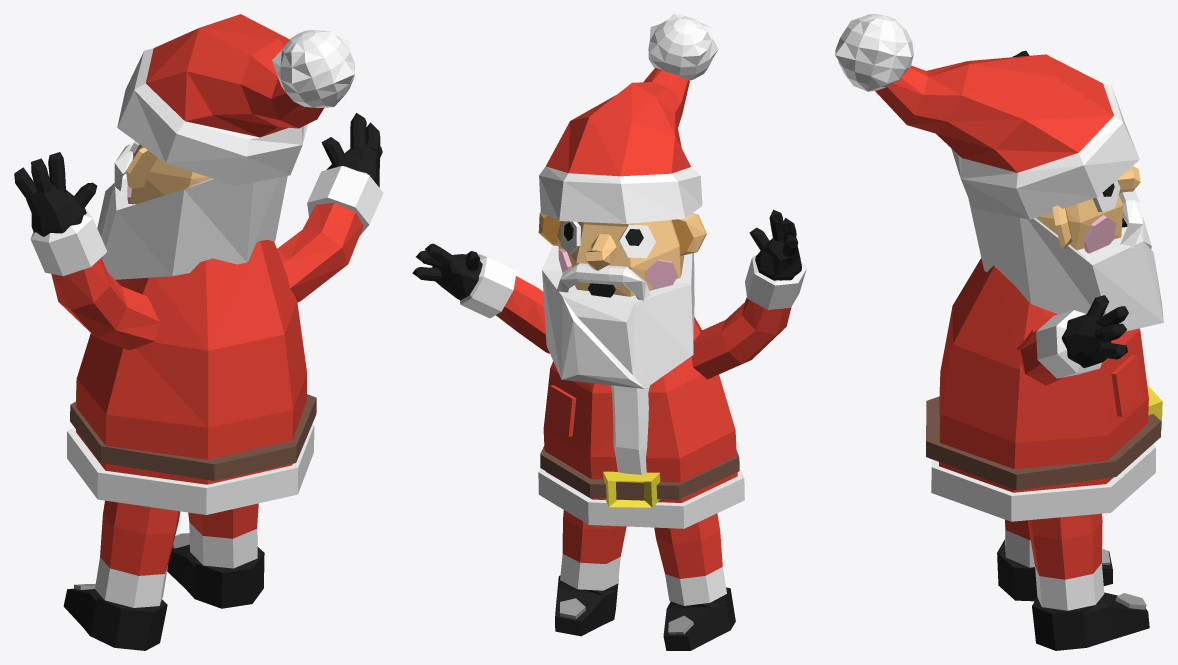
Rendered from Surprised Santa.glb.
The picture shows the model from 3 angles, left to right: view 1: azimuth 30°, elevation 25°; view 2: azimuth 150°, elevation 25°; view 3: azimuth 270°, elevation 25°; orthographic projection. The views are drawn at different scales.
Visible parts, largest first — view 1: group567412692, group806251968, group369021551, group1013935021, group27873801, group567754470, group592253174, group862190925, group1069797574, group1253634248, group913022759, group42980979 (+2 smaller); view 2: group806251968, group567412692, group369021551, group1013935021, group27873801, group567754470, group592253174, group42980979, group1069797574, group1102469100, group1646512128, group862190925 (+9 smaller); view 3: group806251968, group567412692, group369021551, group567754470, group42980979, group27873801, group862190925, group1069797574, group913022759, group1253634248, group1102469100, group776075749 (+4 smaller).
Boxes of the visible parts, x1,y1,x2,y2 form: group567412692: [76, 240, 306, 484]; group806251968: [117, 14, 323, 185]; group369021551: [97, 176, 287, 279]; group1013935021: [14, 152, 159, 350]; group27873801: [277, 113, 383, 302]; group567754470: [67, 424, 314, 514]; group592253174: [95, 500, 180, 607]; group862190925: [70, 394, 316, 480]; group1069797574: [272, 30, 354, 107]; group1253634248: [63, 588, 167, 650]; group913022759: [167, 544, 264, 608]; group42980979: [188, 503, 258, 568]; group806251968: [539, 68, 702, 223]; group567412692: [543, 317, 737, 502]; group369021551: [542, 245, 694, 388]; group1013935021: [691, 209, 806, 379]; group27873801: [412, 243, 549, 353]; group567754470: [538, 468, 744, 528]; group592253174: [654, 513, 726, 605]; group42980979: [560, 510, 626, 590]; group1069797574: [648, 14, 718, 80]; group1102469100: [557, 220, 684, 296]; group1646512128: [611, 385, 649, 474]; group862190925: [540, 446, 739, 499]; group806251968: [875, 54, 1139, 219]; group567412692: [939, 258, 1148, 492]; group369021551: [968, 198, 1163, 331]; group567754470: [931, 444, 1155, 521]; group42980979: [1028, 513, 1104, 610]; group27873801: [1016, 295, 1128, 385]; group862190925: [926, 396, 1161, 490]; group1069797574: [835, 14, 913, 91]; group913022759: [1032, 592, 1149, 650]; group1253634248: [997, 539, 1112, 601]; group1102469100: [1036, 194, 1123, 250]; group776075749: [1111, 355, 1142, 416].
Size of the model in its own units: 0.4192 by 0.6273 by 0.2998.
